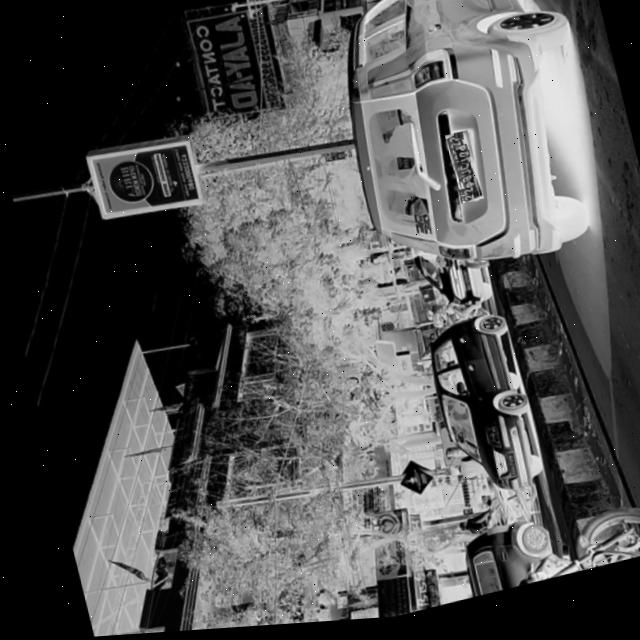0: (454, 154, 468, 165)
2: (457, 191, 472, 200), (459, 197, 472, 206)
5: (457, 184, 471, 194)
7: (455, 160, 468, 170)
8: (457, 180, 470, 189)
C: (455, 167, 469, 177)
IND: (451, 137, 461, 146)
Indian_registered: (444, 137, 477, 207)
J: (455, 173, 471, 182)
M: (452, 142, 467, 153)
P: (453, 149, 465, 158)
